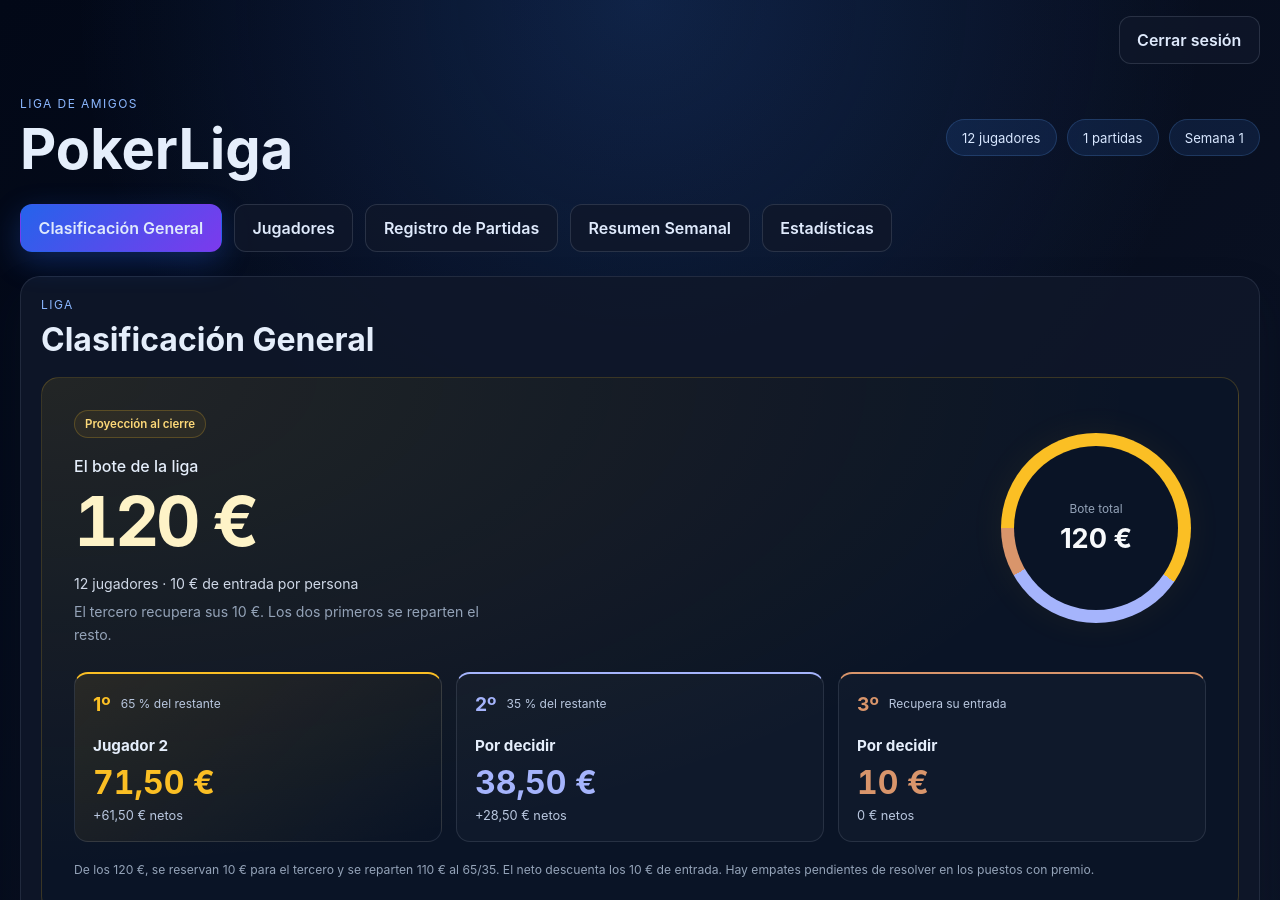
Test: shows failed saves without adding a result or updating settings
Click the button "Registro de Partidas" at (462, 228), box [365,204,558,252]
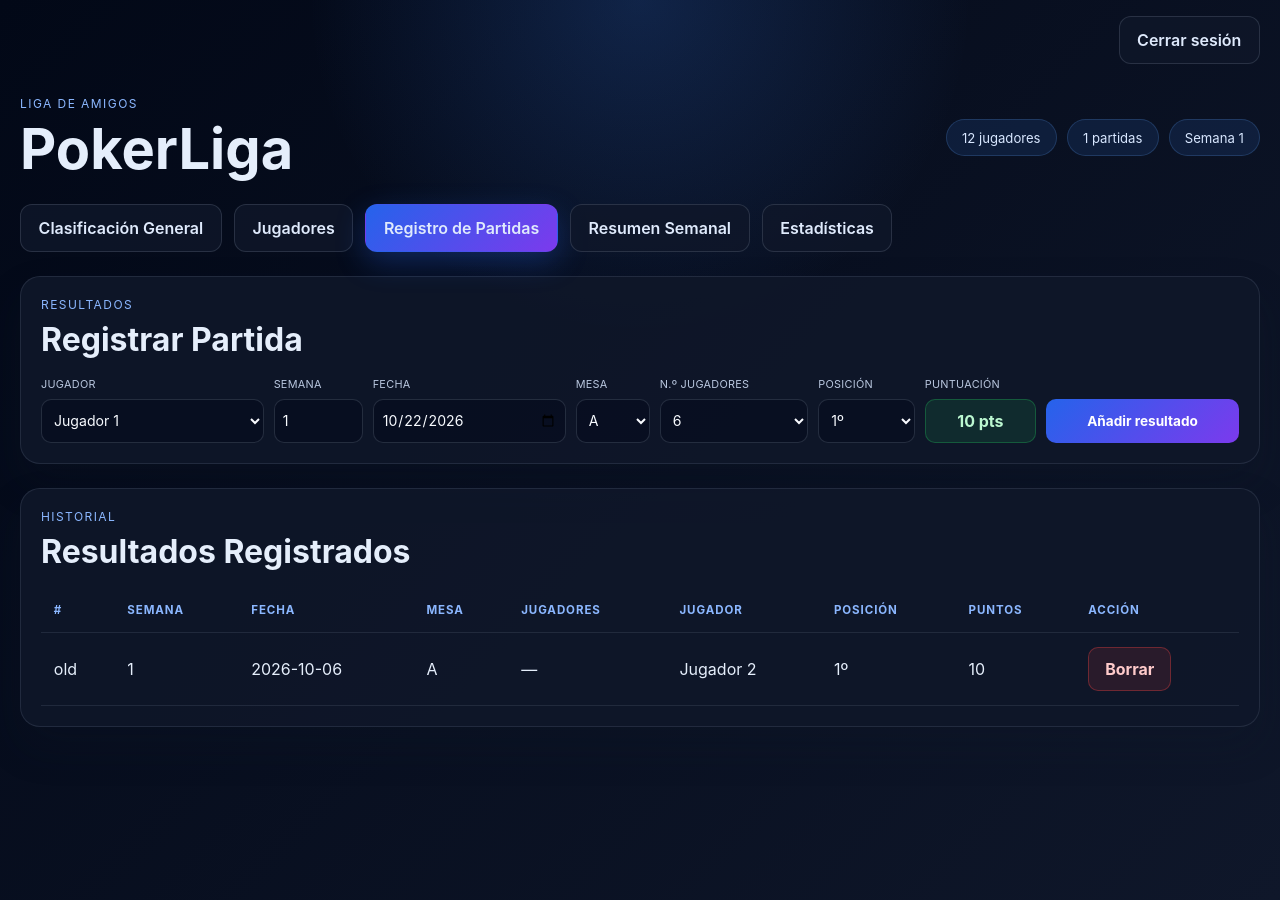
Click the button "Añadir resultado" at (1142, 421), box [1046,399,1239,443]
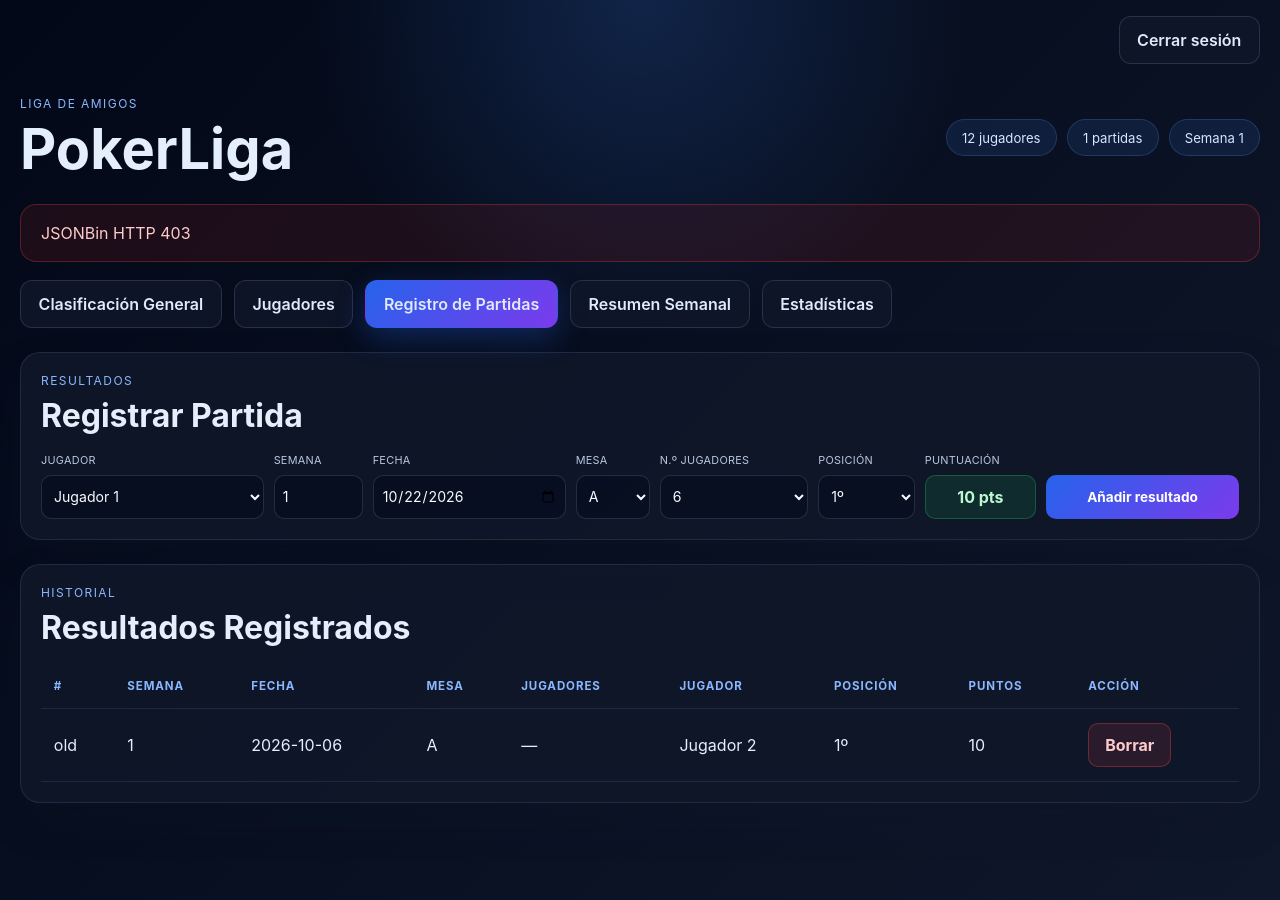
Expected: the text "1 partidas" is shown, [1067,119,1158,156]
Result: the message reads "JSONBin HTTP 403" at [41,223,191,243]
